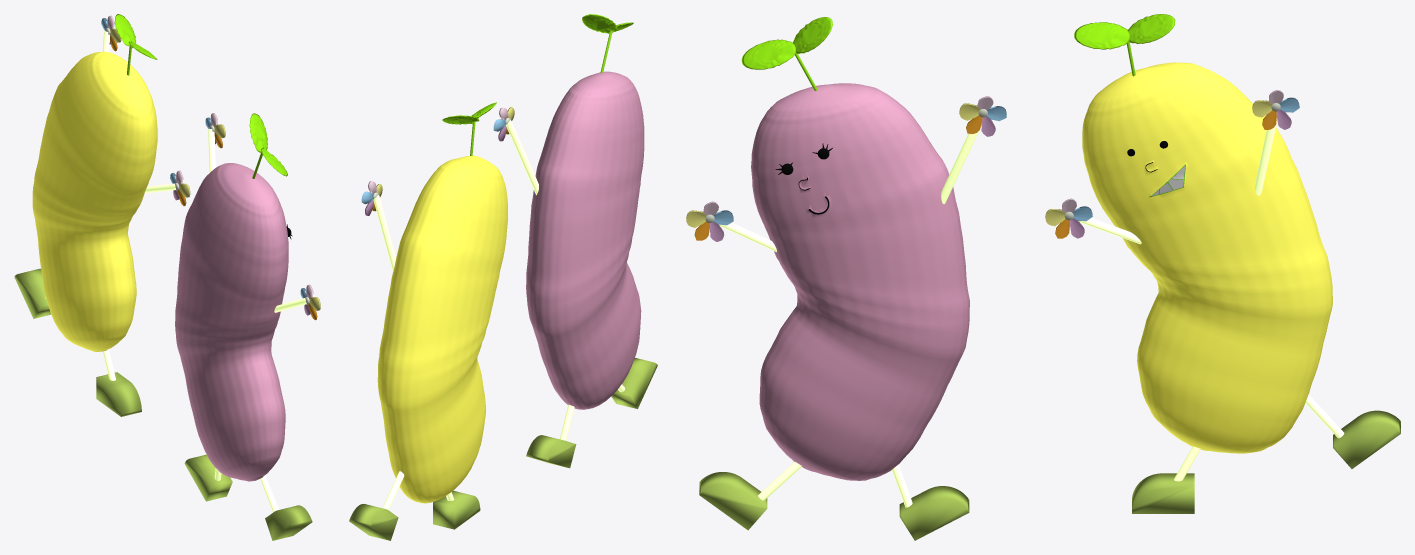
Rendered from MEMEN MEMEL.glb.
3 renders of one model, left to right at view 1: azimuth 30°, elevation 25°; view 2: azimuth 150°, elevation 25°; view 3: azimuth 270°, elevation 25°, orthographic. The views are drawn at different scales.
Parts seen in each view (by area): view 1: 球.011, 球.003, 立方体, 立方体.006, 立方体.005, 立方体.002, 円.007, 円柱.004, 円柱.023, 円.001, 円柱.022; view 2: 球.003, 球.011, 立方体, 立方体.005, 立方体.002, 立方体.006, 円柱.025, 円柱.011, 円.007, 円柱.022, 円柱.003; view 3: 球.011, 球.003, 立方体.006, 立方体.005, 立方体.002, 立方体, 円.002, 円.008, 円柱.023, 円柱.022, 円柱.003, 円柱.004 (+2 smaller).
Boxes of the visible parts, x1,y1,x2,y2 form: 球.011: [175, 163, 288, 481]; 球.003: [32, 51, 157, 351]; 立方体: [96, 372, 141, 416]; 立方体.006: [184, 454, 232, 501]; 立方体.005: [265, 505, 312, 540]; 立方体.002: [14, 268, 51, 318]; 円.007: [249, 113, 267, 152]; 円柱.004: [170, 170, 190, 206]; 円柱.023: [300, 284, 320, 320]; 円.001: [114, 14, 135, 47]; 円柱.022: [205, 113, 225, 148]; 球.003: [377, 155, 507, 503]; 球.011: [526, 71, 644, 409]; 立方体: [433, 490, 480, 529]; 立方体.005: [611, 358, 657, 408]; 立方体.002: [349, 504, 398, 540]; 立方体.006: [526, 435, 576, 468]; 円柱.025: [506, 120, 538, 195]; 円柱.011: [373, 195, 396, 271]; 円.007: [582, 14, 616, 33]; 円柱.022: [493, 107, 514, 141]; 円柱.003: [361, 181, 382, 215]; 球.011: [751, 83, 969, 480]; 球.003: [1082, 62, 1332, 453]; 立方体.006: [899, 486, 969, 540]; 立方体.005: [699, 472, 767, 530]; 立方体.002: [1333, 410, 1400, 468]; 立方体: [1132, 473, 1194, 513]; 円.002: [1074, 22, 1130, 49]; 円.008: [741, 39, 795, 69]; 円柱.023: [686, 201, 733, 241]; 円柱.022: [959, 96, 1006, 136]; 円柱.003: [1252, 90, 1299, 129]; 円柱.004: [1045, 198, 1092, 238].
Size of the model in its own units: 0.4667 by 2.29 by 2.86.
